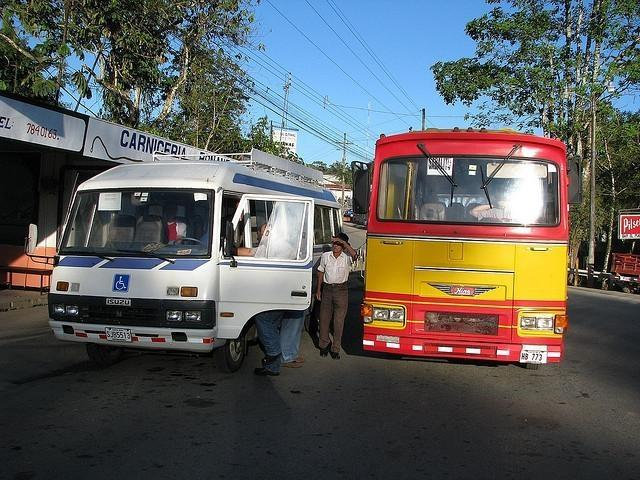bus: (51, 150, 346, 368), (354, 135, 566, 364)
car: (343, 208, 353, 215)
